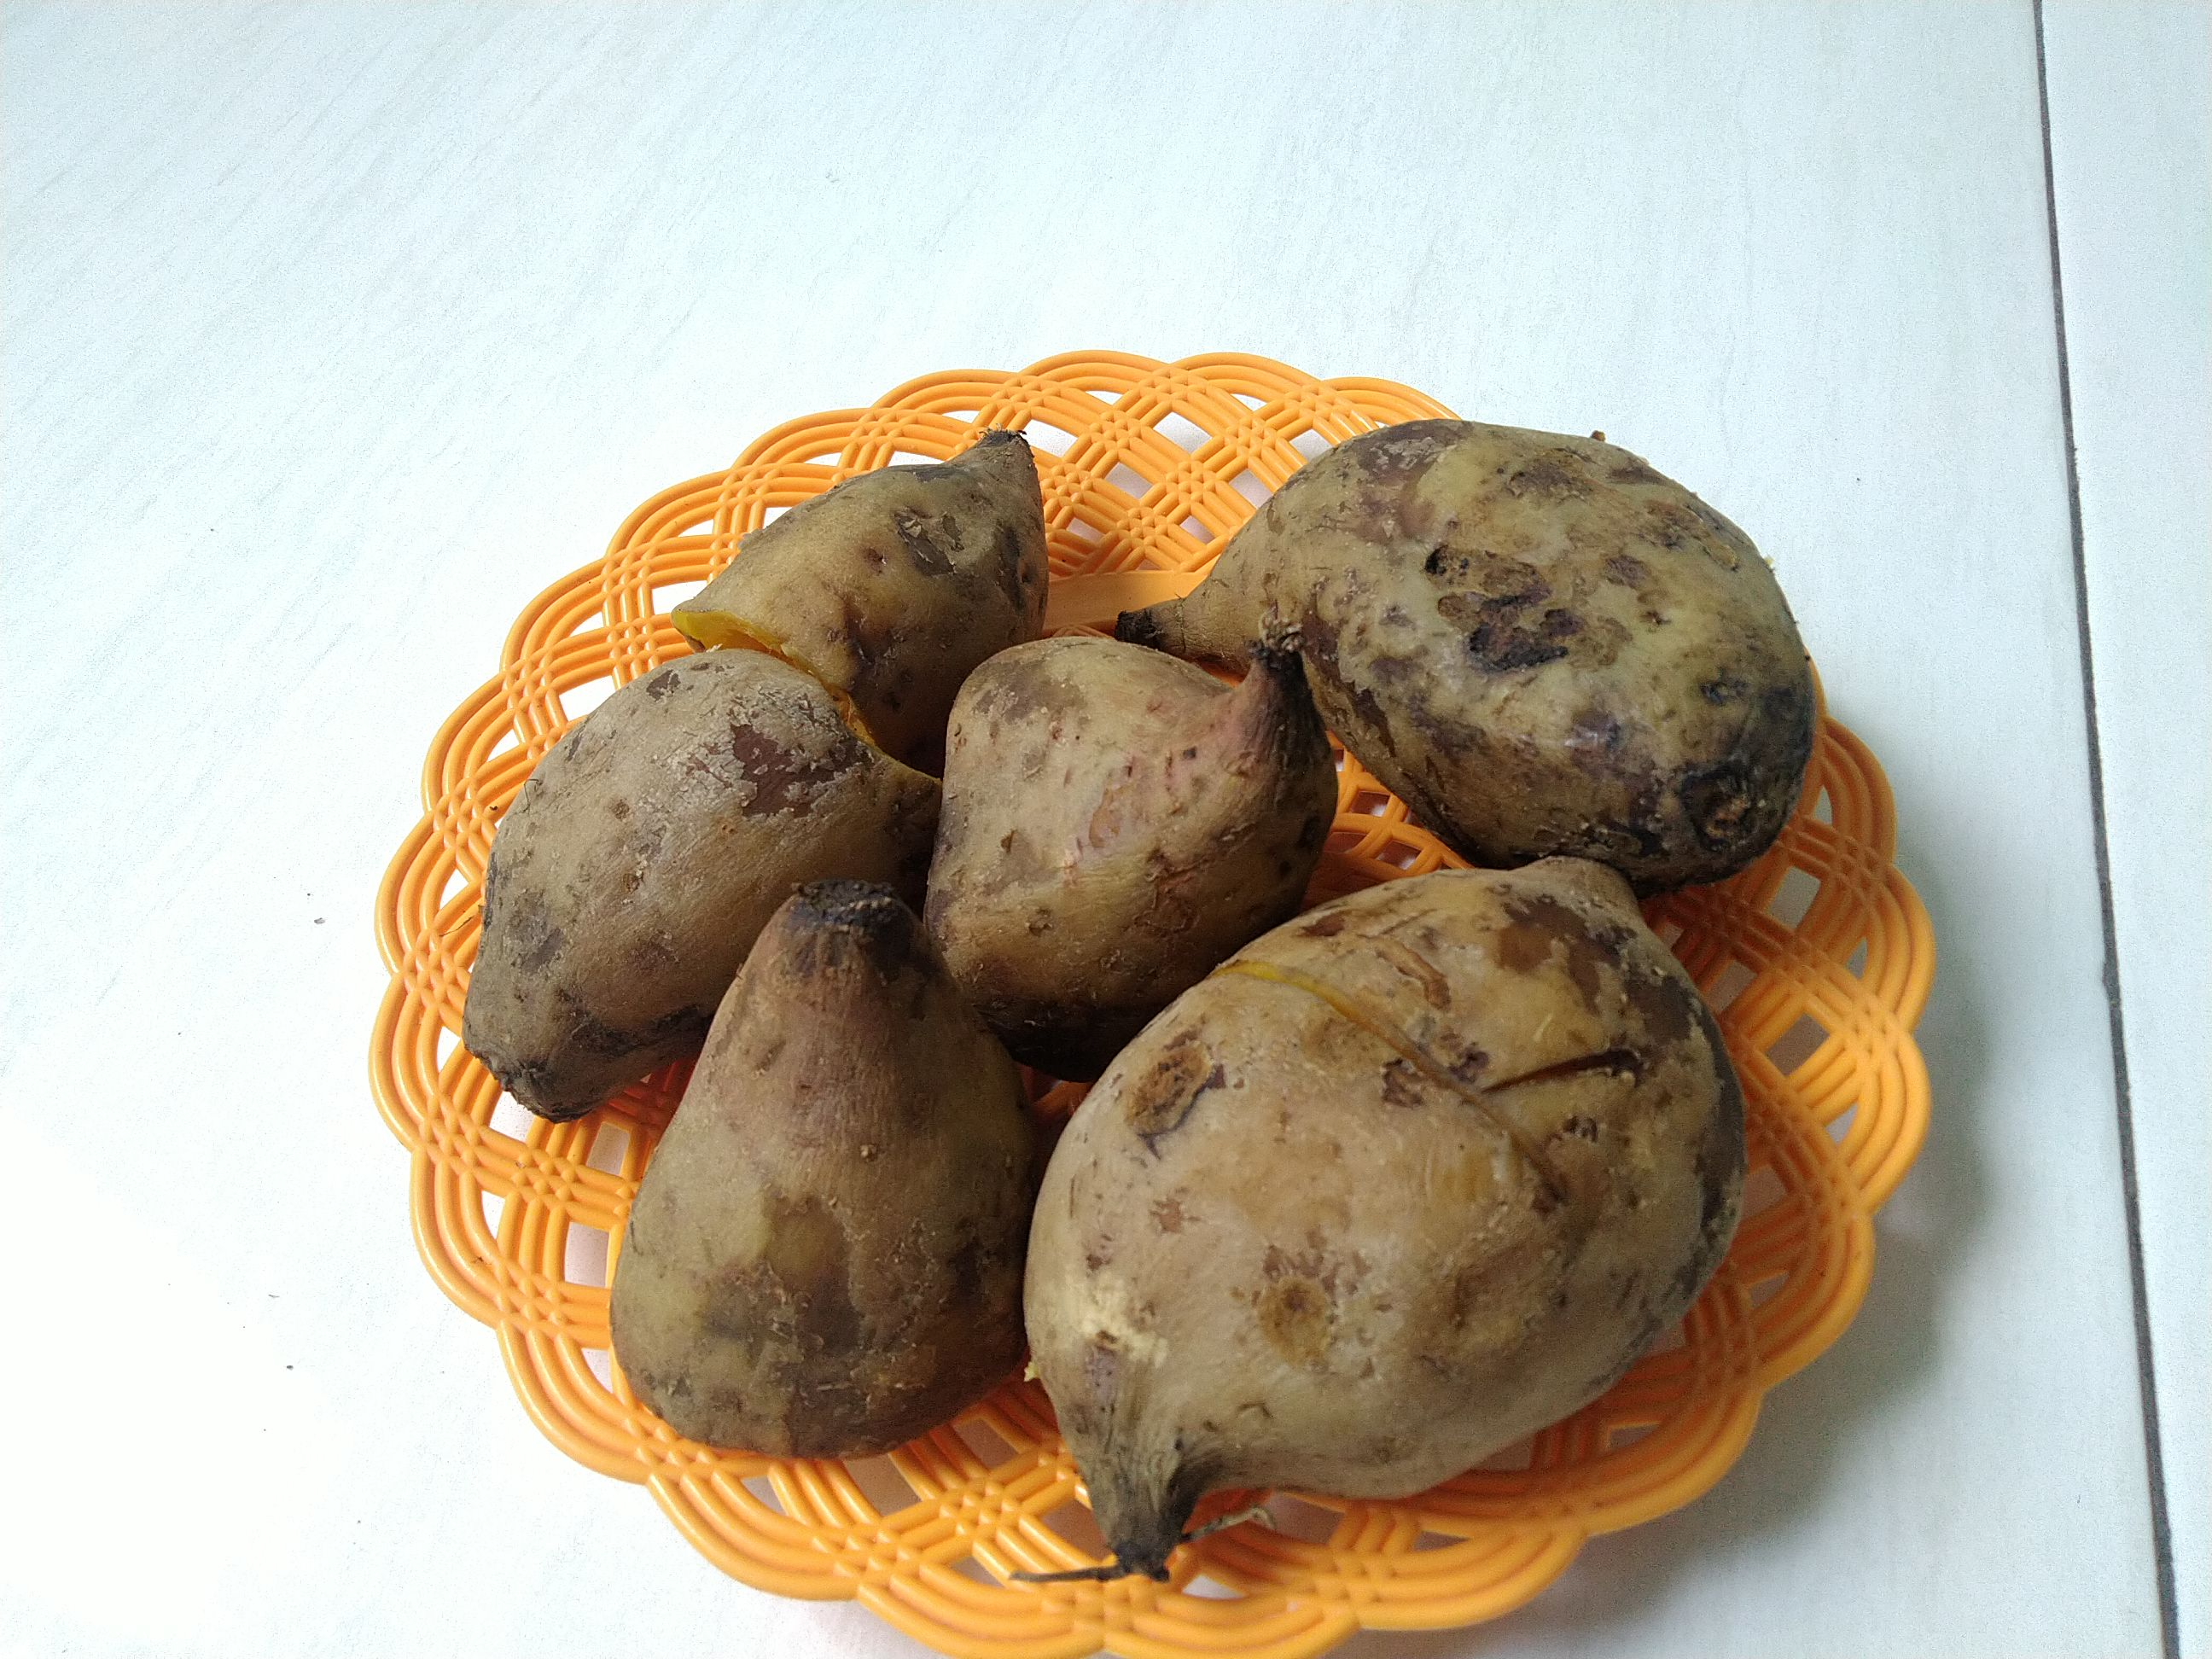ubi kuning: (1012, 856, 1733, 1575), (444, 399, 1068, 1140), (1089, 423, 1841, 884), (601, 859, 1062, 1471), (921, 615, 1348, 1007)
